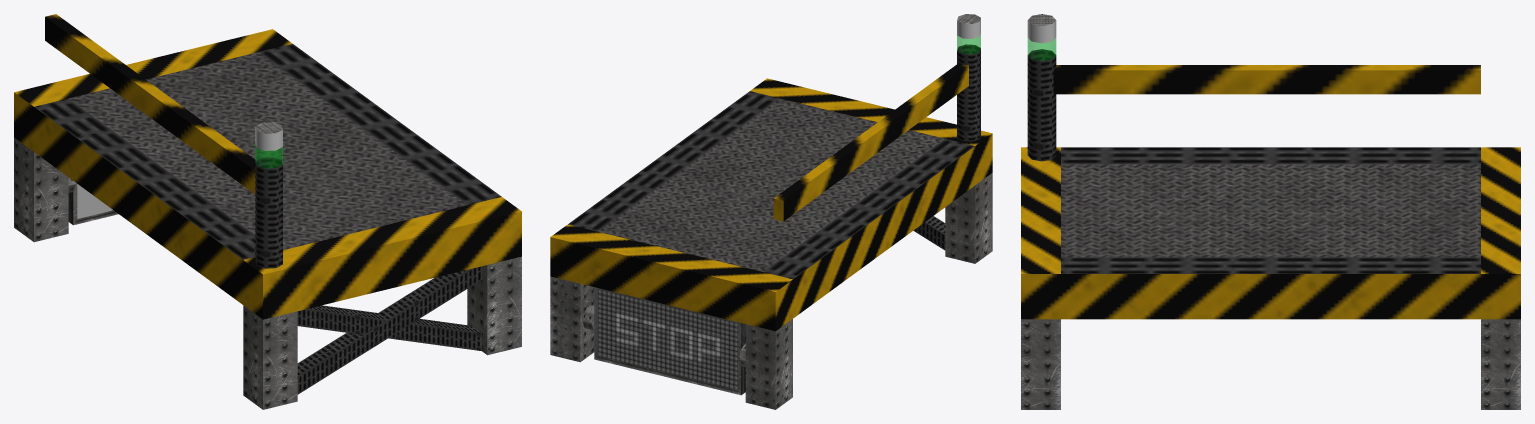
The model's file is Stop.fbx.
The picture shows the model from 3 angles, left to right: view 1: azimuth 30°, elevation 25°; view 2: azimuth 150°, elevation 25°; view 3: azimuth 270°, elevation 25°; orthographic projection. The views are drawn at different scales.
Parts seen in each view (by area): view 1: Stop, barrer, poteau, Screen_Stop; view 2: Stop, Screen_Stop, barrer, poteau; view 3: Stop, barrer, poteau.
Boxes of the visible parts, <box> form: Stop: <box>14,29,521,409</box>; barrer: <box>45,14,255,193</box>; poteau: <box>255,122,282,268</box>; Screen_Stop: <box>68,183,118,225</box>; Stop: <box>550,78,992,409</box>; Screen_Stop: <box>594,287,745,395</box>; barrer: <box>773,63,968,221</box>; poteau: <box>957,14,980,141</box>; Stop: <box>1021,147,1520,409</box>; barrer: <box>1053,65,1480,94</box>; poteau: <box>1027,14,1056,161</box>.
Bounding box in the file's own units: 3 × 2.99 × 5.
